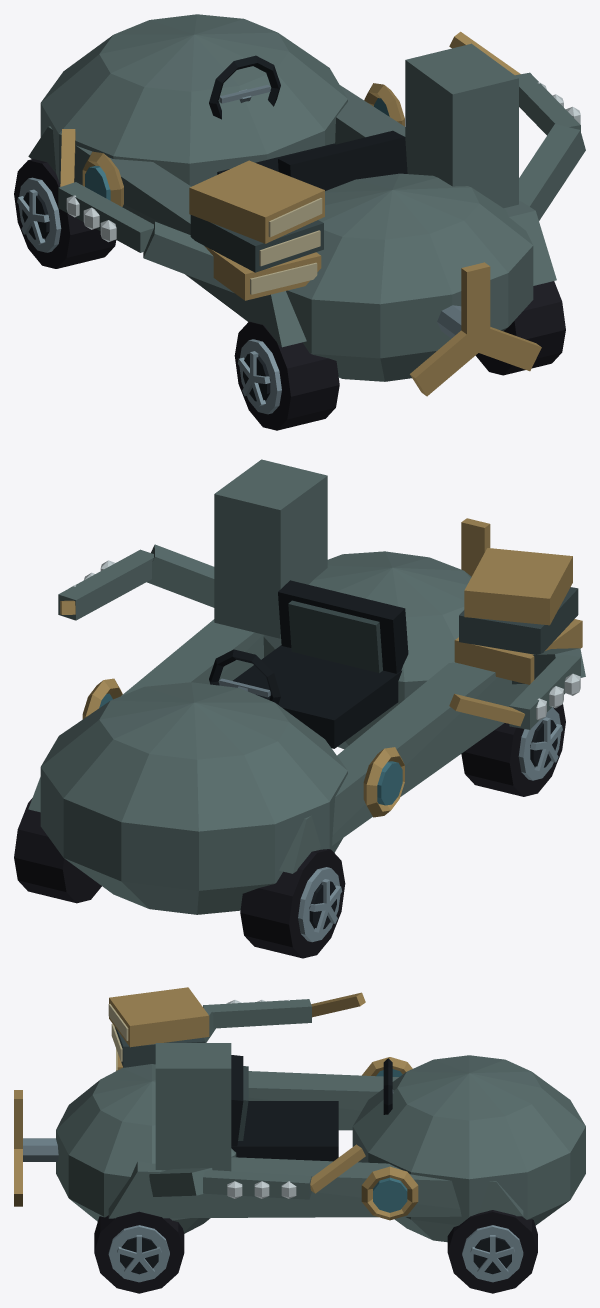
Rendered from kart.glb.
The picture shows the model from 3 angles, top to bottom: view 1: azimuth 30°, elevation 25°; view 2: azimuth 150°, elevation 25°; view 3: azimuth 270°, elevation 25°; orthographic projection. The views are drawn at different scales.
Parts seen in each view (by area): view 1: identity-submarine-submarine-rounded-bow-and-stern-propeller, identity-submarine-motif-books, identity-submarine-motif-tentacles, wheel-rear-left, identity-submarine-driver-cockpit, wheel-front-left, wheel-rear-right; view 2: identity-submarine-submarine-rounded-bow-and-stern-propeller, identity-submarine-driver-cockpit, identity-submarine-motif-books, identity-submarine-motif-tentacles, wheel-front-left, wheel-rear-left, wheel-front-right; view 3: identity-submarine-submarine-rounded-bow-and-stern-propeller, identity-submarine-motif-tentacles, identity-submarine-driver-cockpit, wheel-rear-right, wheel-front-right, identity-submarine-motif-books.
Part boxes in pixels (x1,y1,x2,y2): identity-submarine-submarine-rounded-bow-and-stern-propeller: [28, 14, 556, 396]; identity-submarine-motif-books: [189, 160, 324, 300]; identity-submarine-motif-tentacles: [58, 31, 585, 292]; wheel-rear-left: [234, 321, 339, 430]; identity-submarine-driver-cockpit: [209, 55, 407, 190]; wheel-front-left: [14, 159, 116, 268]; wheel-rear-right: [475, 281, 565, 375]; identity-submarine-submarine-rounded-bow-and-stern-propeller: [28, 459, 528, 914]; identity-submarine-driver-cockpit: [209, 580, 408, 748]; identity-submarine-motif-books: [454, 548, 582, 684]; identity-submarine-motif-tentacles: [58, 544, 585, 729]; wheel-front-left: [240, 849, 345, 958]; wheel-rear-left: [461, 704, 565, 796]; wheel-front-right: [14, 798, 101, 903]; identity-submarine-submarine-rounded-bow-and-stern-propeller: [14, 1043, 585, 1242]; identity-submarine-motif-tentacles: [149, 992, 365, 1199]; identity-submarine-driver-cockpit: [231, 1055, 393, 1161]; wheel-rear-right: [94, 1211, 184, 1293]; wheel-front-right: [447, 1210, 537, 1293]; identity-submarine-motif-books: [108, 987, 209, 1070].
Bounding box in the file's own units: 2.45 × 1.36 × 3.17.
